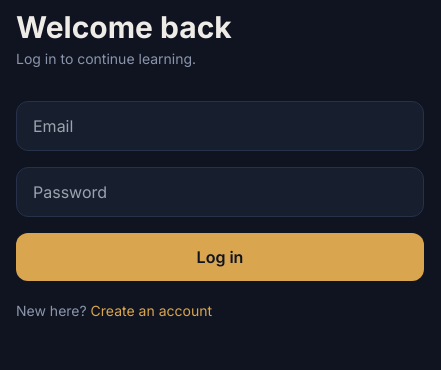
Test: Login › surfaces a failed login
Type "ada@example.com" into the field with placeholder "Email".
click(220, 126); type("ada@example.com")  # box x1=16 y1=101 x2=424 y2=151
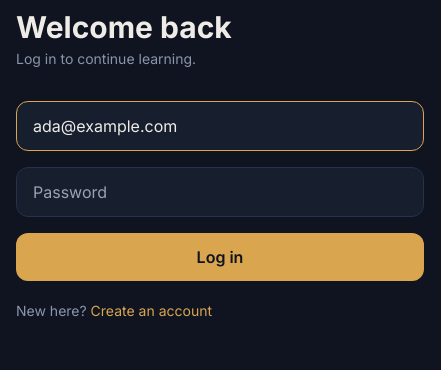
Type "wrongpass" into the password field with placeholder "Password".
click(220, 192); type("wrongpass")  # box x1=16 y1=167 x2=424 y2=217
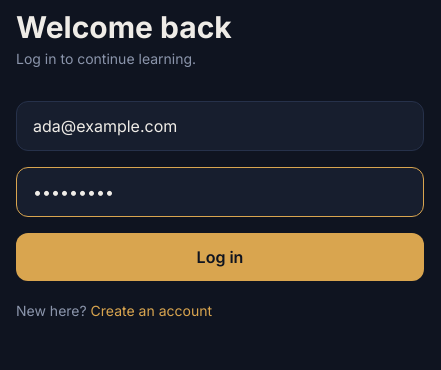
Click the button "Log in".
click(220, 257)  # box x1=16 y1=233 x2=424 y2=281
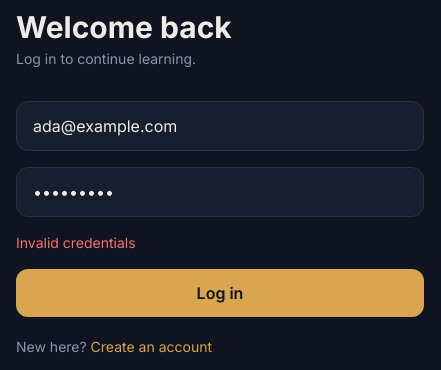
Expected: the text "Invalid credentials" is shown, x1=16 y1=234 x2=136 y2=251
